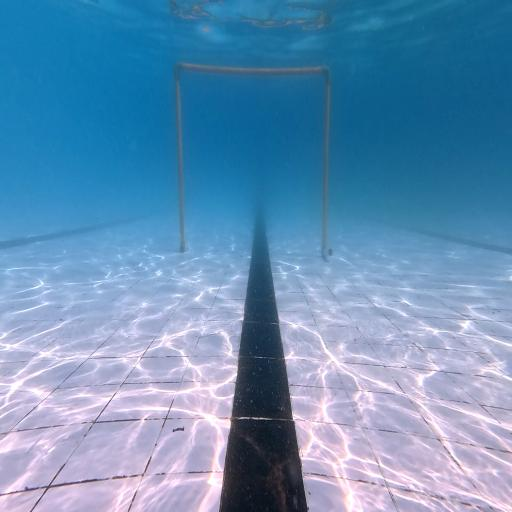gate: (174, 63, 332, 256)
